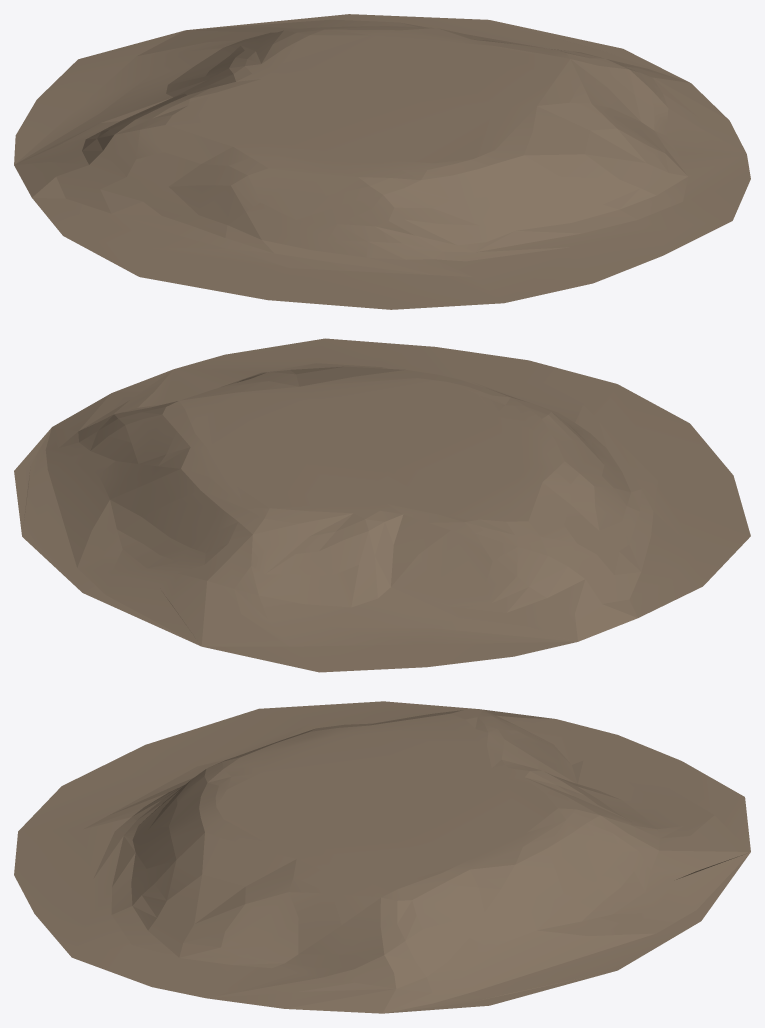
The model's file is BeachCircle.glb.
The picture shows the model from 3 angles, top to bottom: view 1: azimuth 30°, elevation 25°; view 2: azimuth 150°, elevation 25°; view 3: azimuth 270°, elevation 25°; orthographic projection. The views are drawn at different scales.
Parts seen in each view (by area): view 1: SM_Env_Beach_01__6_; view 2: SM_Env_Beach_01__6_; view 3: SM_Env_Beach_01__6_.
Boxes of the visible parts, x1,y1,x2,y2 form: SM_Env_Beach_01__6_: (14,14,750,309); SM_Env_Beach_01__6_: (14,338,750,672); SM_Env_Beach_01__6_: (14,701,750,1013).
Bounding box in the file's own units: 36.81 × 3.21 × 36.71.
Materials: 1 (1 with a texture image).
